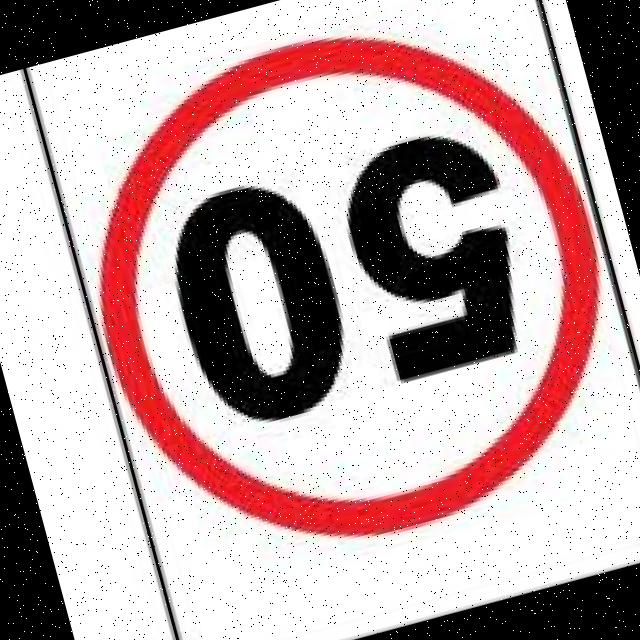speed_limit_50: (29, 0, 640, 603)
